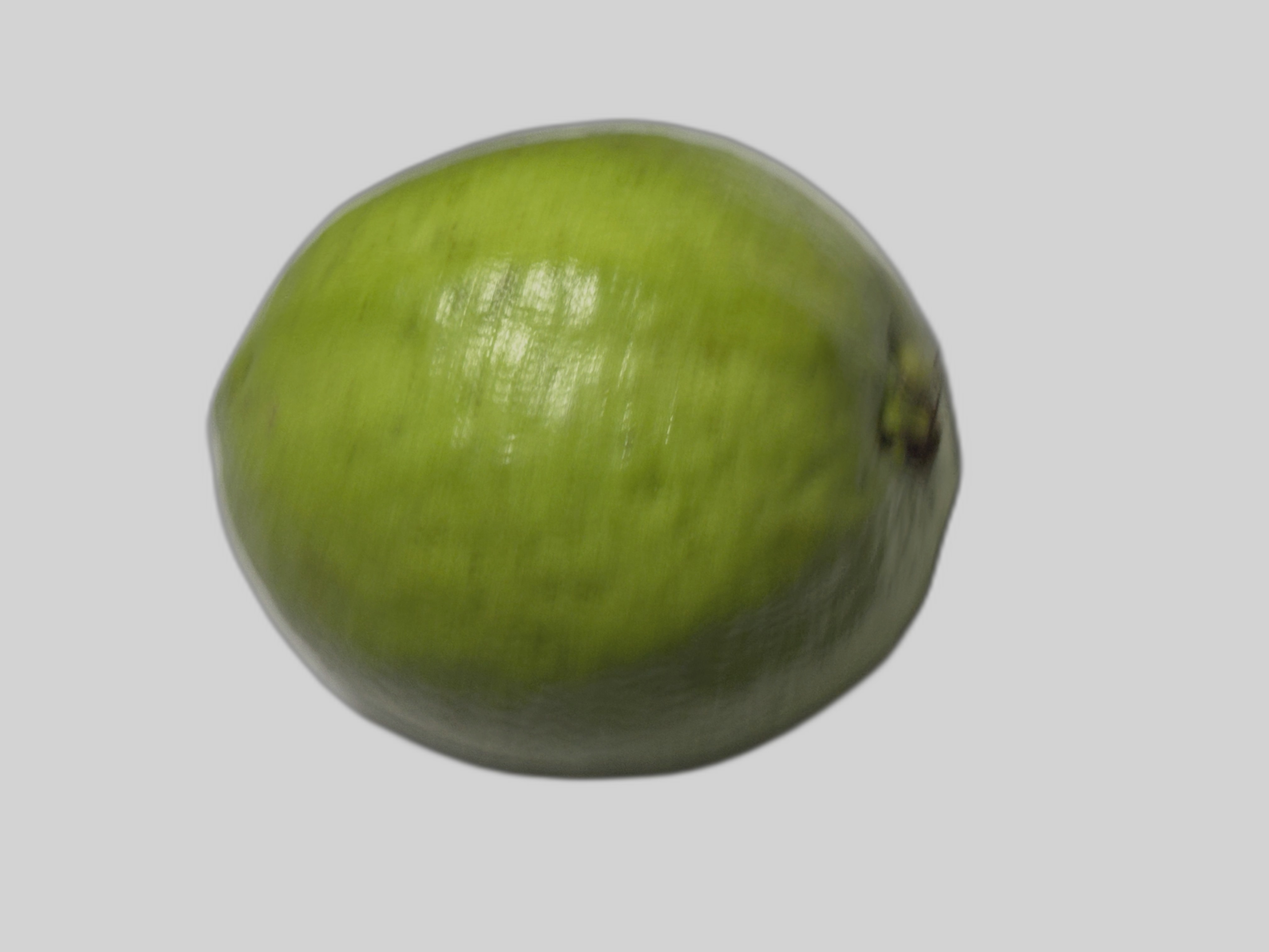guava: (217, 136, 1091, 946)
